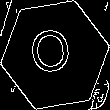O_S: (31, 26, 79, 84)
